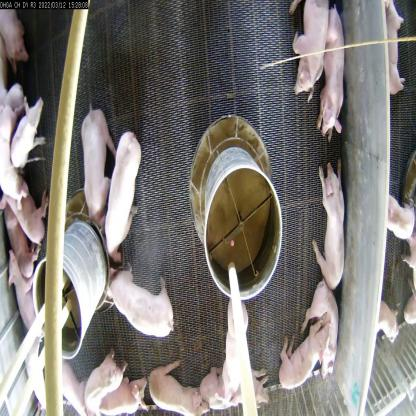Pig: (310, 159, 353, 289), (268, 304, 332, 388), (278, 0, 330, 102), (107, 265, 170, 342), (197, 356, 277, 416), (70, 96, 108, 218), (144, 354, 216, 416), (103, 128, 136, 262), (318, 11, 350, 126), (304, 282, 340, 382), (86, 357, 145, 415), (0, 96, 28, 217), (220, 294, 248, 402)
